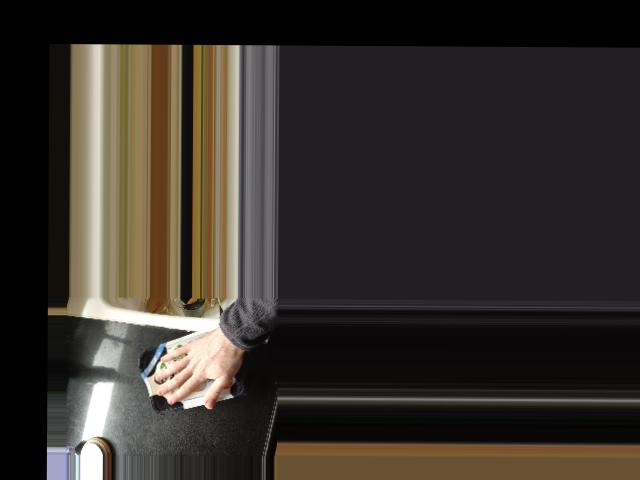cheese: (136, 321, 246, 416)
